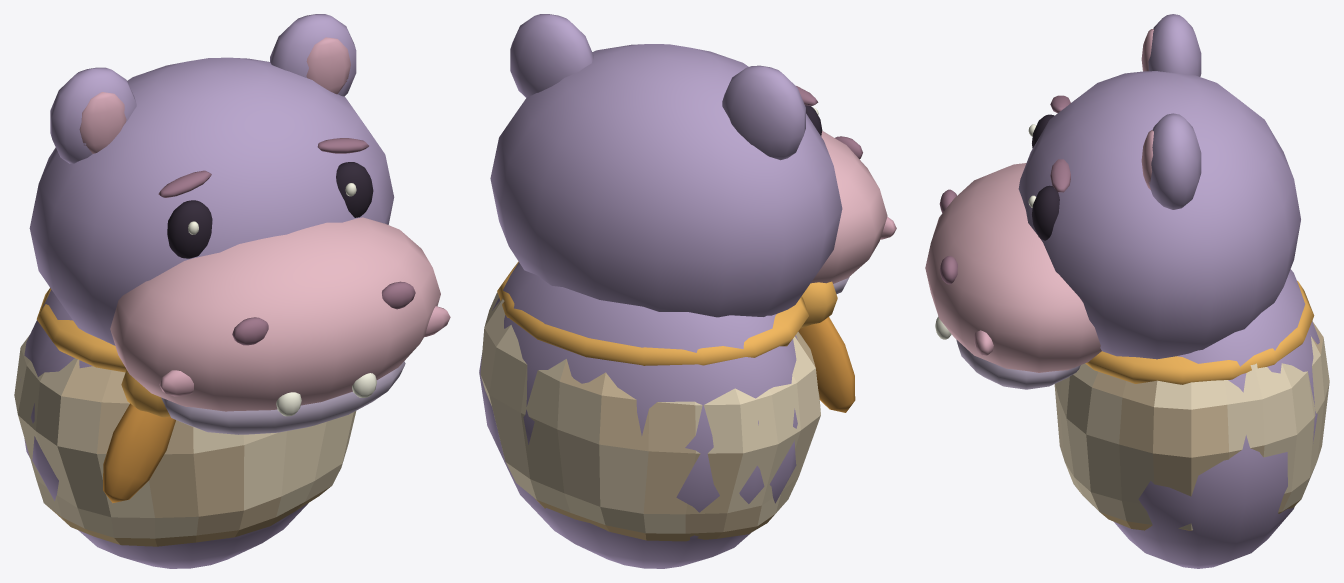
Rendered from hippo.glb.
3 renders of one model, left to right at view 1: azimuth 30°, elevation 25°; view 2: azimuth 150°, elevation 25°; view 3: azimuth 270°, elevation 25°, orthographic. The views are drawn at different scales.
Visible parts, largest first — view 1: Kopf, Schnauze, Gefaltetes Leinen, Runder Körper, Unterlippe, Halstuchzipfel, Ohr -1, Ohr 1, Halstuch, Ohrmuschel -1, Auge -1, Ohrmuschel 1 (+7 smaller); view 2: Kopf, Gefaltetes Leinen, Runder Körper, Halstuch, Ohr -1, Schnauze, Ohr 1, Halstuchzipfel, Halstuchknoten; view 3: Kopf, Gefaltetes Leinen, Schnauze, Runder Körper, Halstuch, Ohr 1, Ohr -1, Unterlippe, Auge 1, Augenbraue 1.
Part boxes in pixels (x1,y1,x2,y2): Kopf: [29, 57, 394, 345]; Schnauze: [110, 217, 440, 411]; Gefaltetes Leinen: [14, 335, 356, 546]; Runder Körper: [20, 290, 308, 568]; Unterlippe: [161, 361, 405, 434]; Halstuchzipfel: [103, 403, 175, 503]; Ohr -1: [50, 67, 136, 163]; Ohr 1: [270, 14, 356, 96]; Halstuch: [36, 288, 126, 372]; Ohrmuschel -1: [79, 92, 126, 153]; Auge -1: [167, 200, 212, 258]; Ohrmuschel 1: [306, 37, 350, 94]; Kopf: [490, 44, 842, 317]; Gefaltetes Leinen: [480, 292, 820, 541]; Runder Körper: [479, 262, 797, 568]; Halstuch: [497, 261, 808, 365]; Ohr -1: [722, 65, 805, 160]; Schnauze: [811, 131, 887, 283]; Ohr 1: [510, 14, 593, 97]; Halstuchzipfel: [798, 317, 855, 412]; Halstuchknoten: [800, 281, 837, 328]; Kopf: [1018, 71, 1300, 359]; Gefaltetes Leinen: [1054, 321, 1329, 530]; Schnauze: [925, 163, 1101, 372]; Runder Körper: [1114, 269, 1319, 568]; Halstuch: [1085, 280, 1314, 384]; Ohr 1: [1149, 113, 1201, 209]; Ohr -1: [1148, 14, 1201, 76]; Unterlippe: [956, 339, 1080, 389]; Auge 1: [1032, 185, 1059, 240]; Augenbraue 1: [1050, 159, 1070, 192].
Bounding box in the file's own units: 0.86 × 1.31 × 0.9834.
